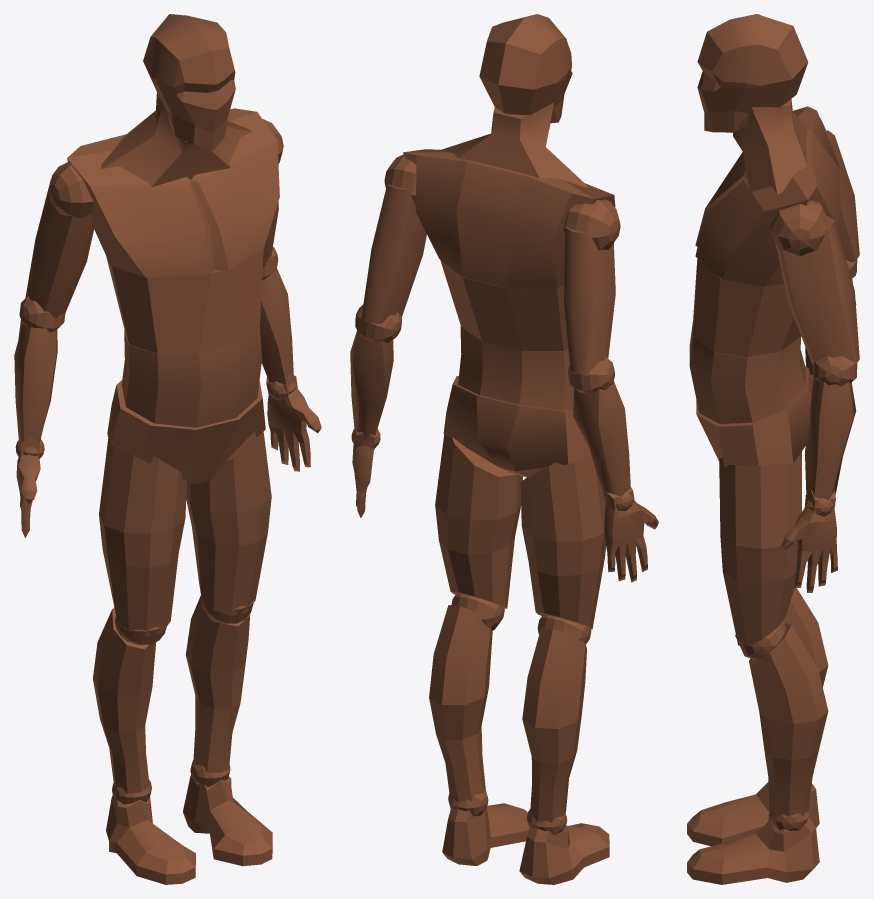
Rendered from Human_6ft.fbx.
The picture shows the model from 3 angles, left to right: view 1: azimuth 30°, elevation 25°; view 2: azimuth 150°, elevation 25°; view 3: azimuth 270°, elevation 25°; orthographic projection.
Parts seen in each view (by area): view 1: Man_Unit_6ft; view 2: Man_Unit_6ft; view 3: Man_Unit_6ft.
Part boxes in pixels (x1=…): Man_Unit_6ft: x1=14, y1=14, x2=321, y2=884; Man_Unit_6ft: x1=350, y1=14, x2=658, y2=884; Man_Unit_6ft: x1=687, y1=14, x2=859, y2=884.
Bounding box in the file's own units: 68.09 × 183 × 34.02.
